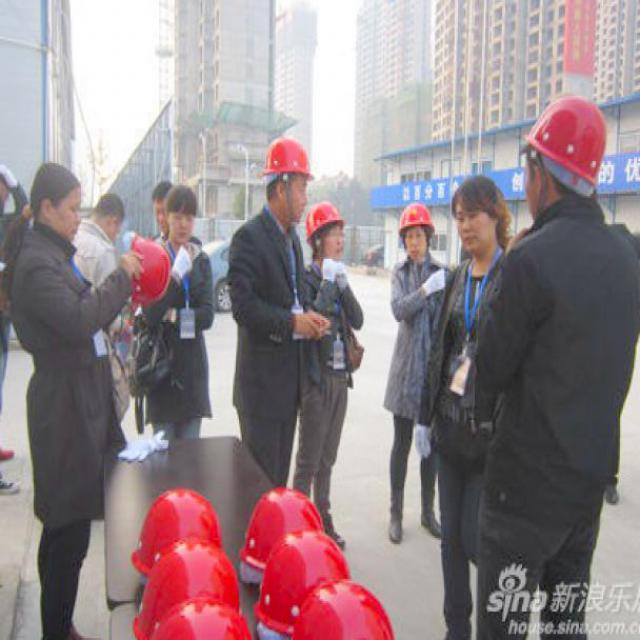helmet: (517, 81, 612, 226), (249, 118, 308, 210), (381, 192, 435, 265), (302, 181, 344, 253)
vest: (116, 216, 170, 318)
